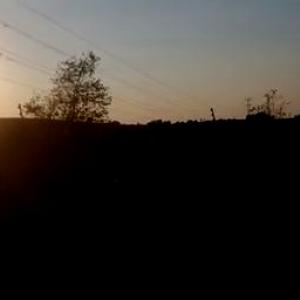follow: (97, 150, 162, 299)
